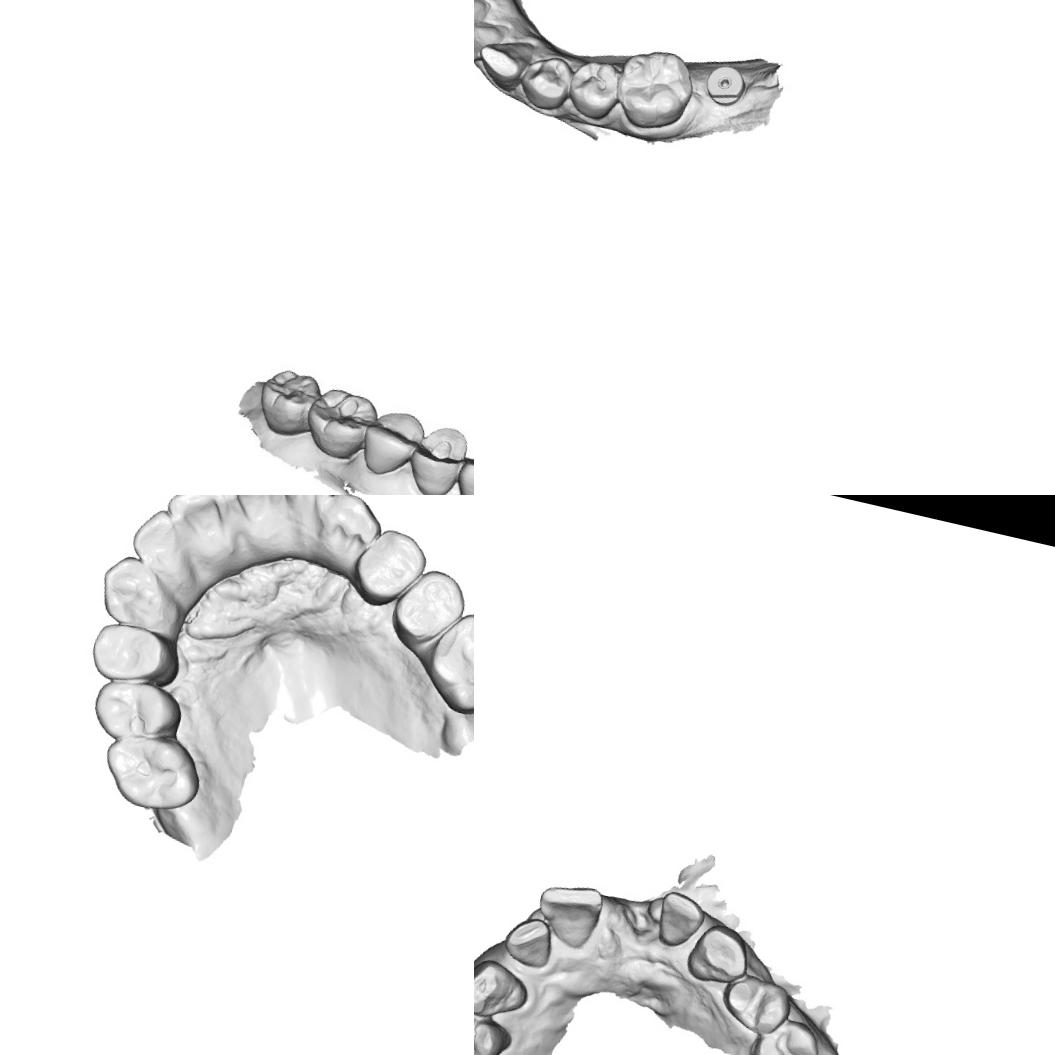canine: (92, 551, 178, 633), (683, 920, 755, 990), (318, 495, 387, 565), (474, 954, 533, 1026), (474, 31, 536, 94)
implant: (701, 61, 749, 110)
incisor: (530, 876, 606, 952), (126, 502, 188, 574), (159, 495, 236, 546), (651, 888, 708, 954), (500, 912, 556, 970), (270, 495, 340, 529), (218, 495, 291, 523), (474, 15, 506, 68)
molar: (94, 726, 209, 820), (608, 41, 701, 138), (87, 673, 188, 753), (416, 603, 474, 722), (302, 381, 380, 467), (250, 363, 325, 443)
premolar: (346, 522, 431, 614), (387, 560, 469, 655), (84, 618, 185, 692), (358, 402, 429, 482), (716, 968, 793, 1038), (403, 424, 467, 495), (514, 49, 578, 115), (563, 55, 624, 124), (745, 1014, 826, 1055), (474, 1005, 515, 1055)
